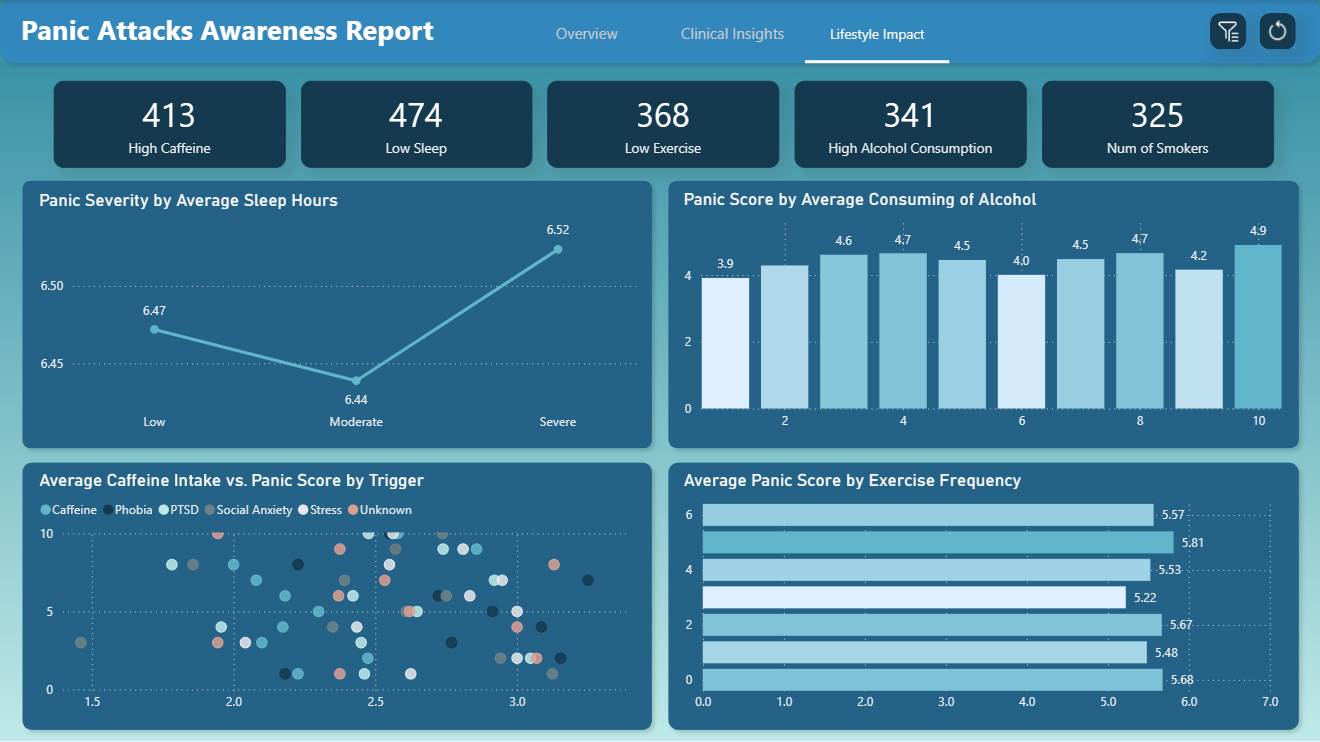

This screenshot's page, from the dashboard's own definition file:
{"tool":"powerbi","page":{"name":"Lifestyle Impact","canvas":[1280,720],"ordinal":2},"visuals":[{"type":"card","fields":{"Values":["_Measures.Low Sleep"]},"box":[292.8,78.1,224,84.5],"z":0},{"type":"card","fields":{"Values":["_Measures.Num of Smokers"]},"box":[1011,78.1,225.3,84.5],"z":1000},{"type":"card","fields":{"Values":["_Measures.High Caffine"]},"box":[53,78.1,225.3,84.5],"z":2000},{"type":"card","fields":{"Values":["_Measures.Low Exercise"]},"box":[531.4,78.1,225.3,84.5],"z":3000},{"type":"card","fields":{"Values":["_Measures.High Alcohol Consumption"]},"box":[771.2,78.1,225.3,84.5],"z":4000},{"type":"scatterChart","title":"Average Caffeine Intake vs. Panic Score by Trigger","fields":{"X":["PANIC_ATTACK_DATA.CAFFEINE_INTAKE"],"Y":["PANIC_ATTACK_DATA.PANIC_SCORE"],"Series":["PANIC_ATTACK_DATA.TRIGGER_REASON"]},"box":[34.1,456,590.7,243.6],"z":5000},{"type":"clusteredBarChart","title":"Average Panic Score by Exercise Frequency","fields":{"Category":["PANIC_ATTACK_DATA.EXERCISE_FREQUENCY"],"Y":["Avg(PANIC_ATTACK_DATA.PANIC_SCORE)"]},"box":[658.9,456,589.4,243.6],"z":6000},{"type":"lineChart","title":"Panic Severity by Average Sleep Hours","fields":{"Y":["Avg(PANIC_ATTACK_DATA.SLEEP_HOURS)"],"Category":["PANIC_ATTACK_DATA.Panic Score Categories"]},"box":[34.1,184.6,590.7,243.6],"z":7000},{"type":"clusteredColumnChart","title":"Panic Score by Average Consuming of Alcohol","fields":{"Category":["PANIC_ATTACK_DATA.PANIC_SCORE"],"Y":["Avg(PANIC_ATTACK_DATA.ALCOHOL_CONSUMPTION)"]},"box":[658.9,183.3,589.4,243.6],"z":8000},{"type":"textbox","box":[16.4,5,443,64.4],"z":9000},{"type":"pageNavigator","box":[500,11.4,140.1,50.5],"z":10000},{"type":"pageNavigator","box":[641.2,11.4,140.1,50.5],"z":11000},{"type":"pageNavigator","box":[781.3,11.4,140.1,50.5],"z":12000},{"type":"actionButton","box":[1173.8,12.6,35.3,35.3],"z":13000},{"type":"actionButton","box":[1221.8,12.6,35.3,35.3],"z":14000}]}

Visuals, with their boxes in screenshot pixels (x1, y1, x2, y2), scaled from the page's 1280x720 canvas onto the 1320x742 screenshot:
card - _Measures.Low Sleep: select_region(302, 80, 533, 168)
card - _Measures.Num of Smokers: select_region(1043, 80, 1275, 168)
card - _Measures.High Caffine: select_region(55, 80, 287, 168)
card - _Measures.Low Exercise: select_region(548, 80, 780, 168)
card - _Measures.High Alcohol Consumption: select_region(795, 80, 1028, 168)
"Average Caffeine Intake vs. Panic Score by Trigger" scatterChart: select_region(35, 470, 644, 721)
"Average Panic Score by Exercise Frequency" clusteredBarChart: select_region(679, 470, 1287, 721)
"Panic Severity by Average Sleep Hours" lineChart: select_region(35, 190, 644, 441)
"Panic Score by Average Consuming of Alcohol" clusteredColumnChart: select_region(679, 189, 1287, 440)
textbox: select_region(17, 5, 474, 72)
pageNavigator: select_region(516, 12, 660, 64)
pageNavigator: select_region(661, 12, 806, 64)
pageNavigator: select_region(806, 12, 950, 64)
actionButton: select_region(1210, 13, 1247, 49)
actionButton: select_region(1260, 13, 1296, 49)
